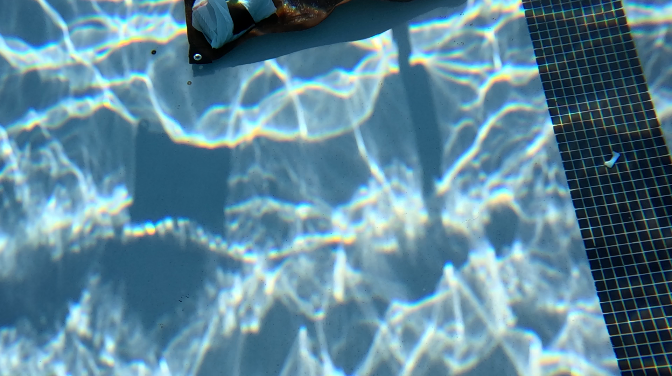sandbag: (184, 0, 351, 63)
